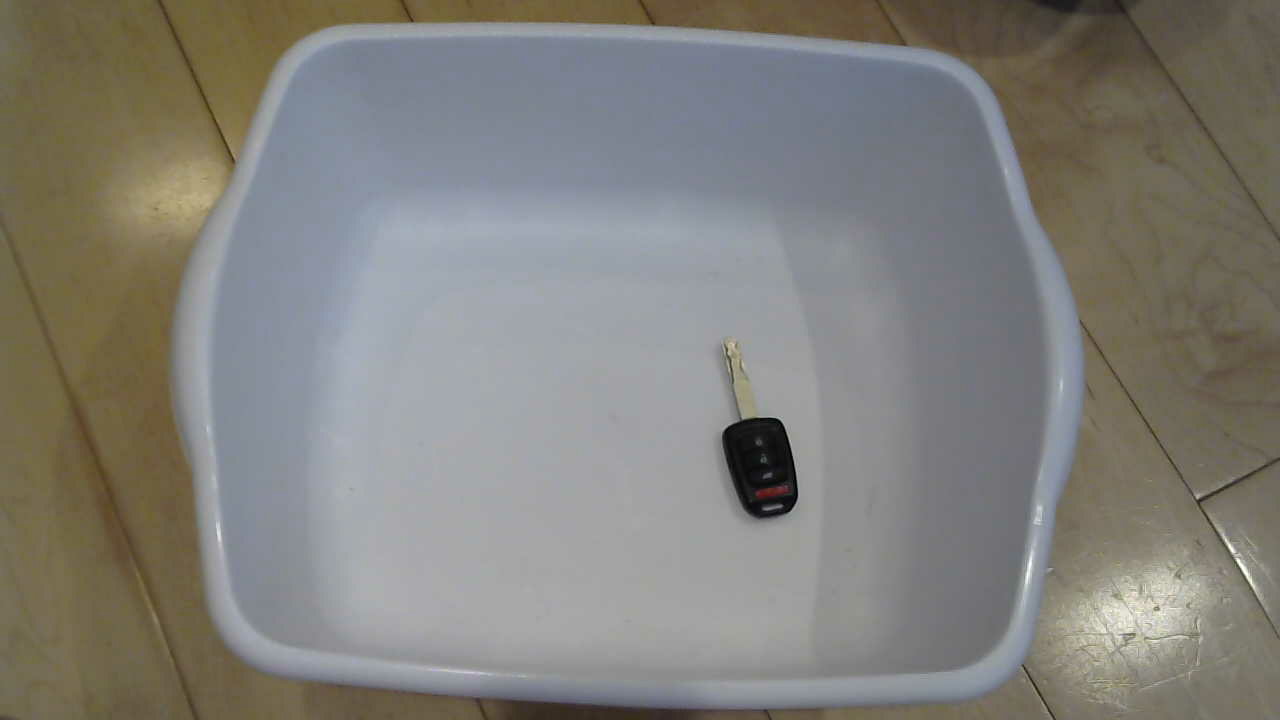key: (690, 343, 844, 523)
